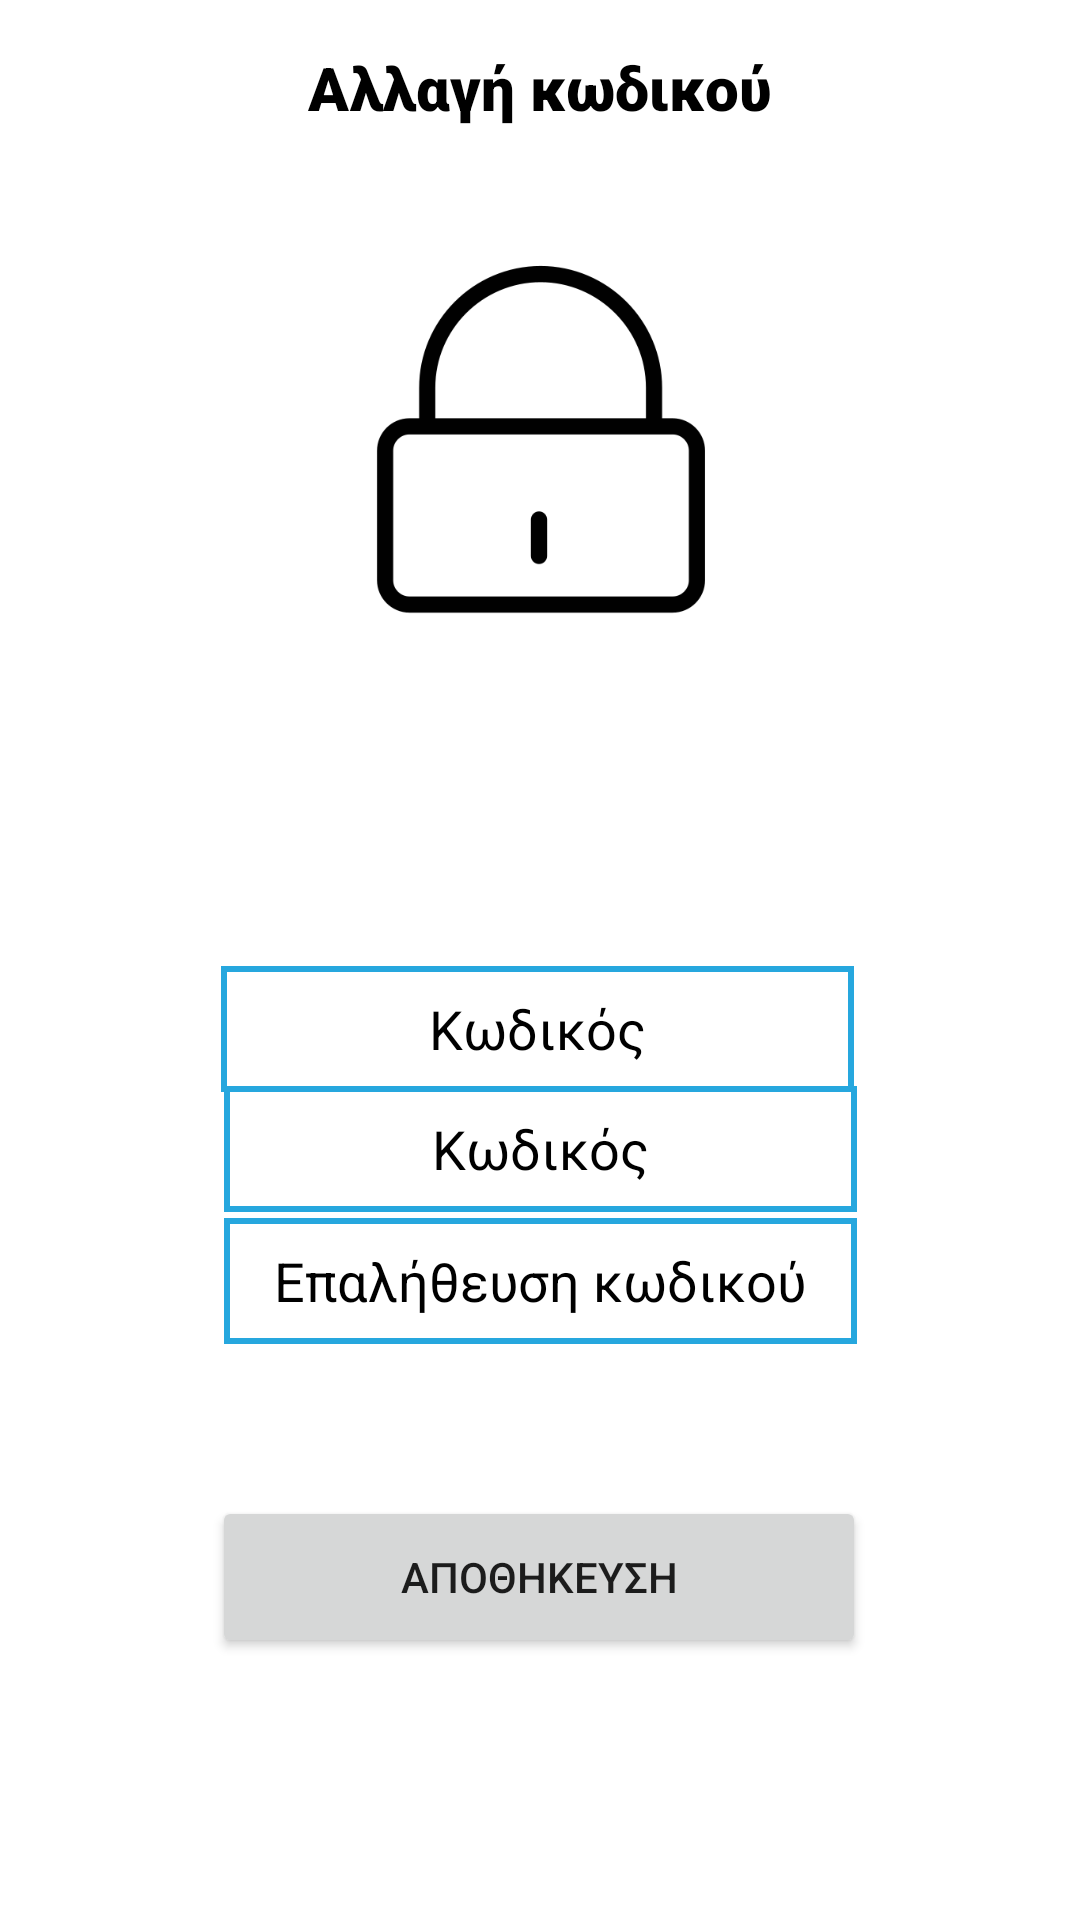

Icons on this 1080 x 1920 Android screen, each with the point to tap as point (x, y):
lockicon: point (541, 439)
